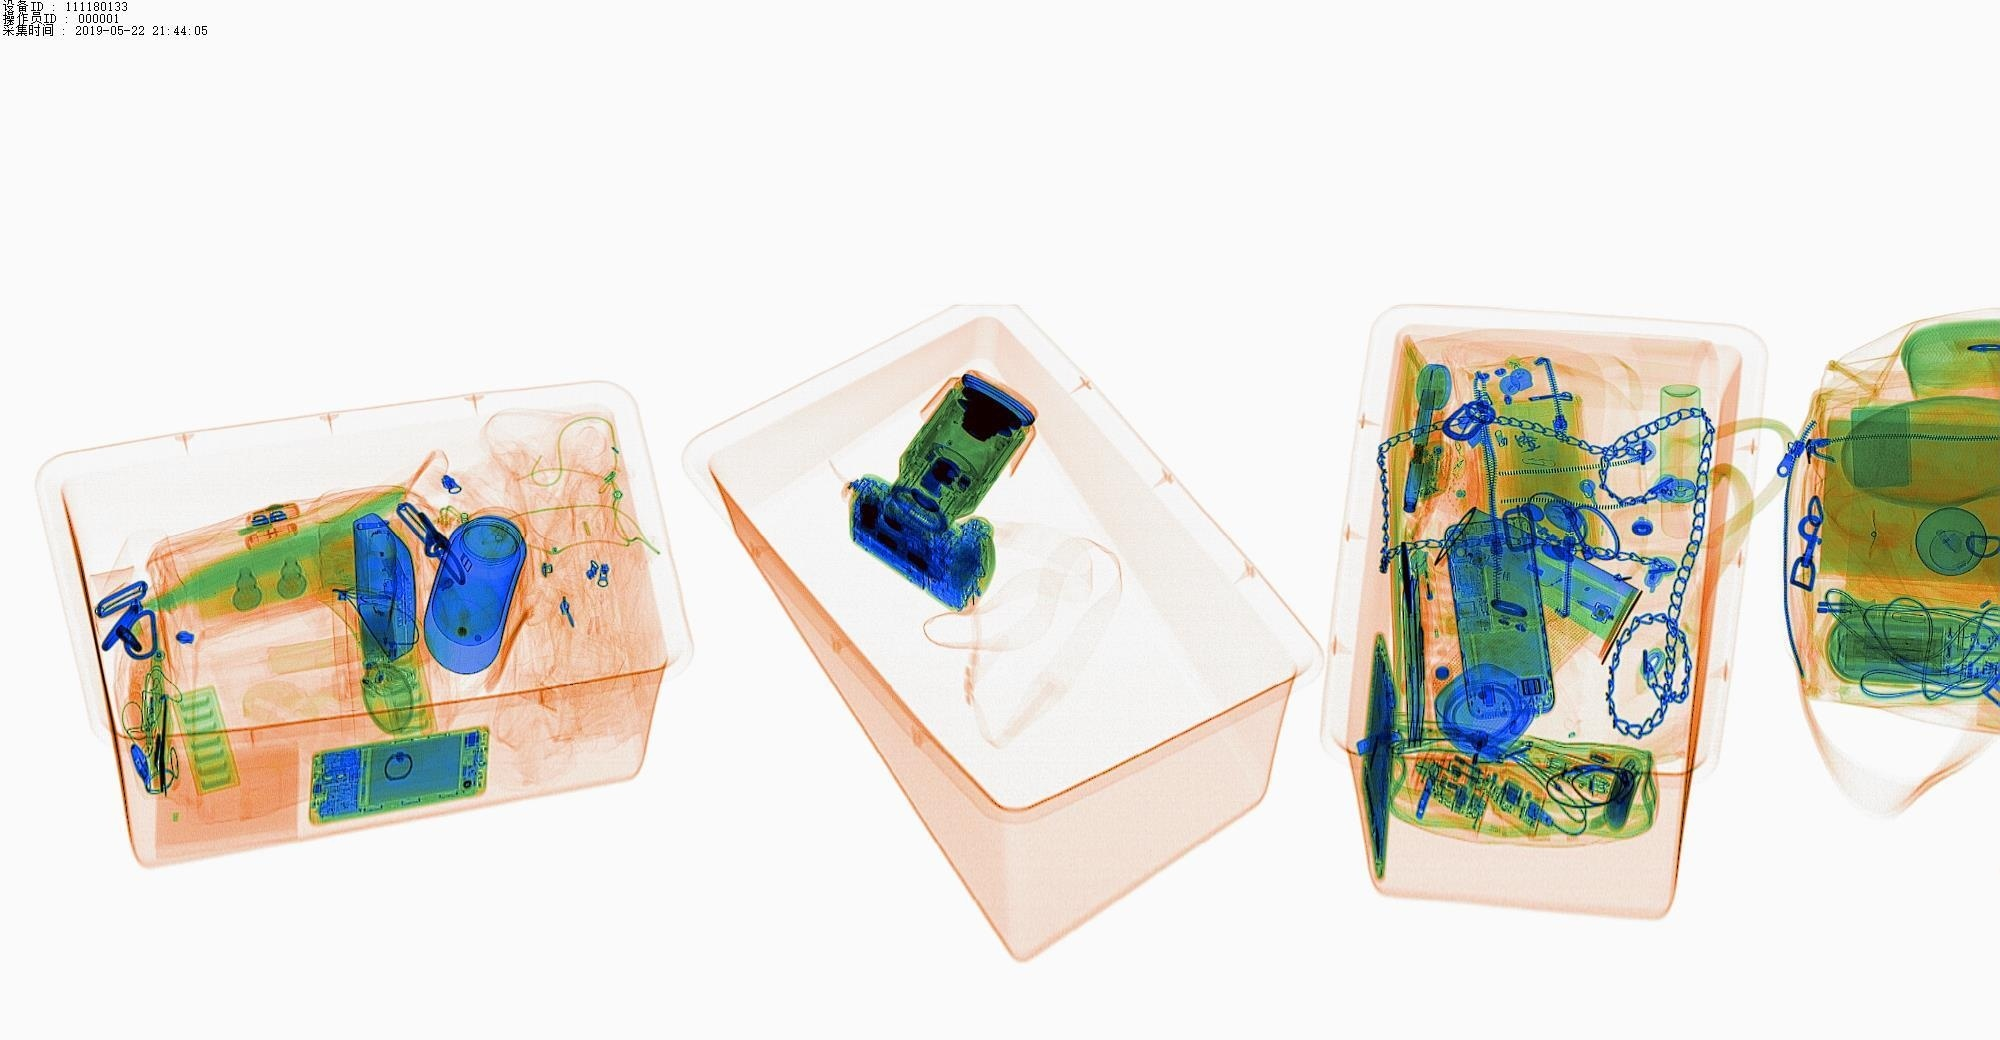NonmetallicFire: (1399, 539, 1438, 643)
